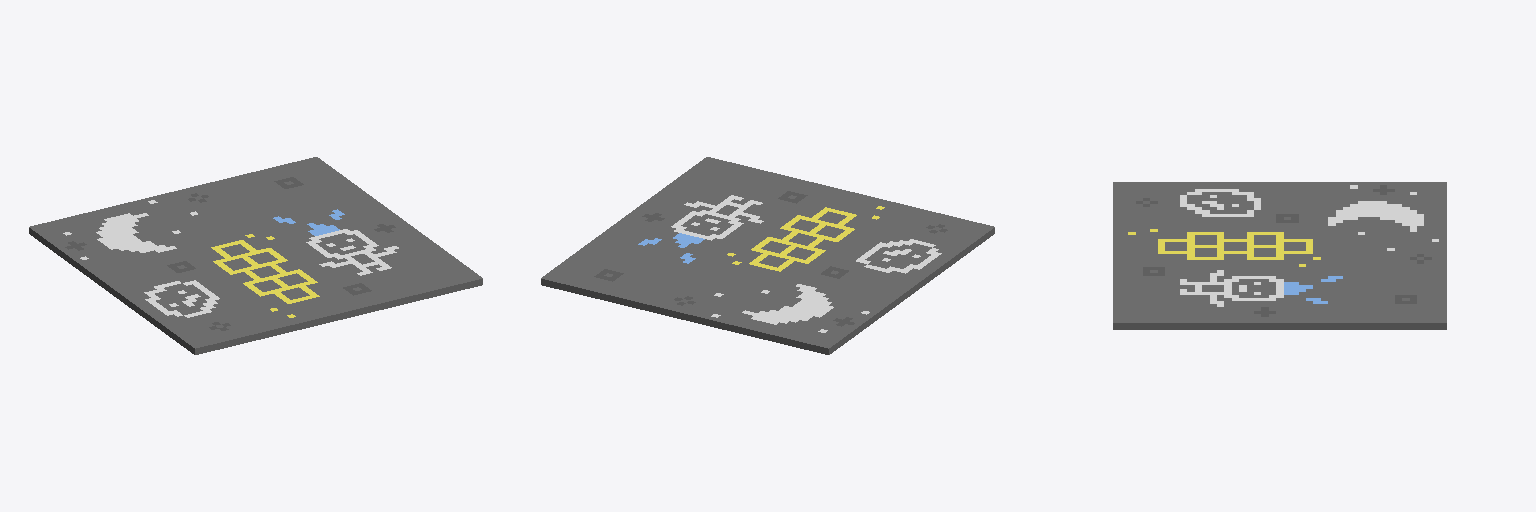
3 views of the same model, side by side, from view 1: azimuth 30°, elevation 25°; view 2: azimuth 150°, elevation 25°; view 3: azimuth 270°, elevation 25° (orthographic).
Parts seen in each view (by area): view 1: Box_47; view 2: Box_47; view 3: Box_47.
Boxes of the visible parts, <box> form: Box_47: <box>29,157,482,354</box>; Box_47: <box>541,157,994,354</box>; Box_47: <box>1113,182,1446,329</box>.
Bounding box in the file's own units: 45 × 1 × 45.
1 materials, 1 textured.